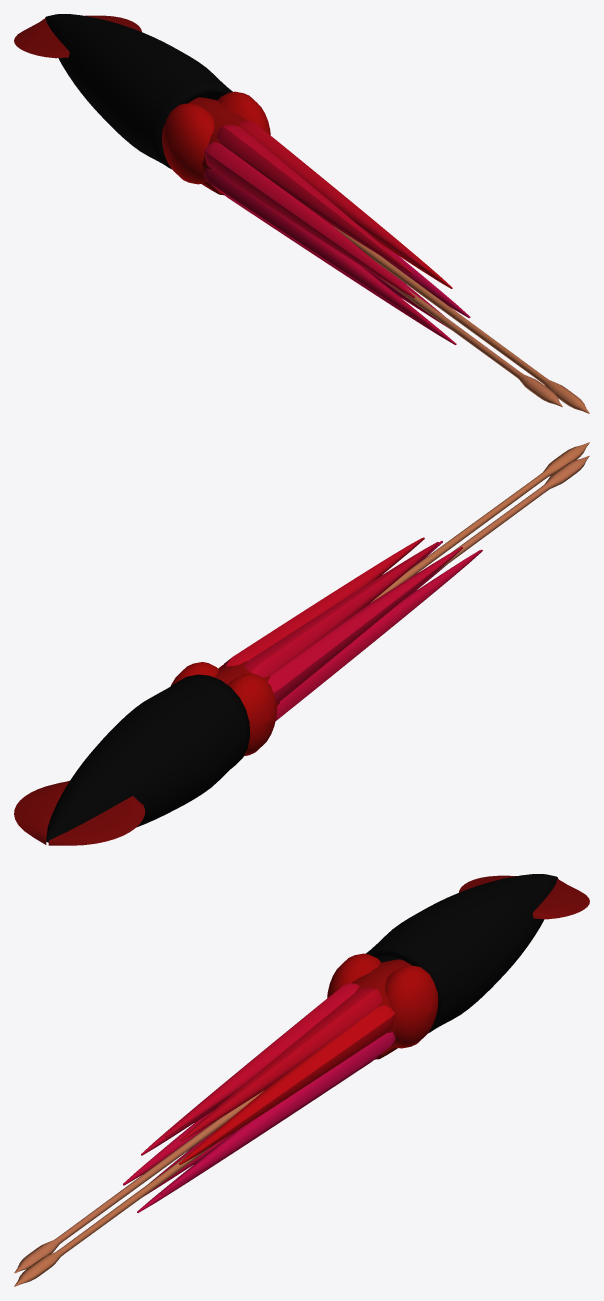
Rendered from giant_squid_game.glb.
3 renders of one model, top to bottom at view 1: azimuth 30°, elevation 25°; view 2: azimuth 150°, elevation 25°; view 3: azimuth 330°, elevation 25°, orthographic. The views are drawn at different scales.
Parts seen in each view (by area): view 1: giant_squid_game; view 2: giant_squid_game; view 3: giant_squid_game.
Part boxes in pixels (x1,y1,x2,y2): giant_squid_game: [14, 14, 589, 413]; giant_squid_game: [14, 442, 589, 845]; giant_squid_game: [14, 874, 589, 1286].
Bounding box in the file's own units: 0.8399 × 0.6861 × 6.95.
